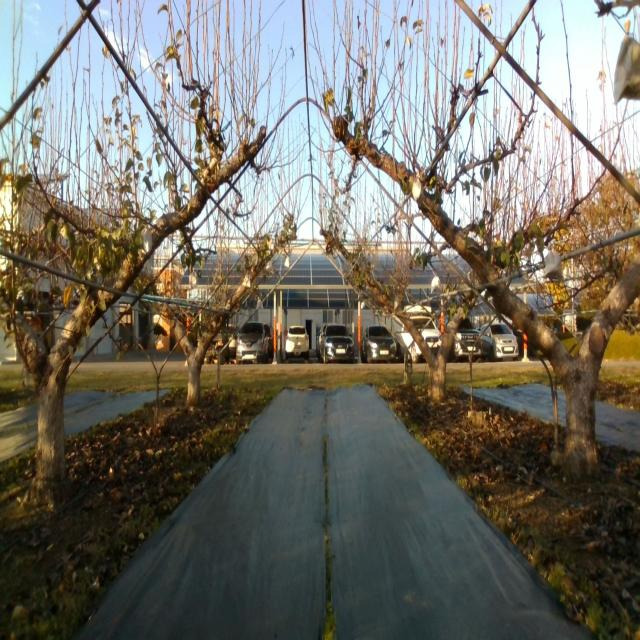pearbags: (613, 36, 640, 104), (544, 249, 562, 279), (430, 276, 442, 294)
